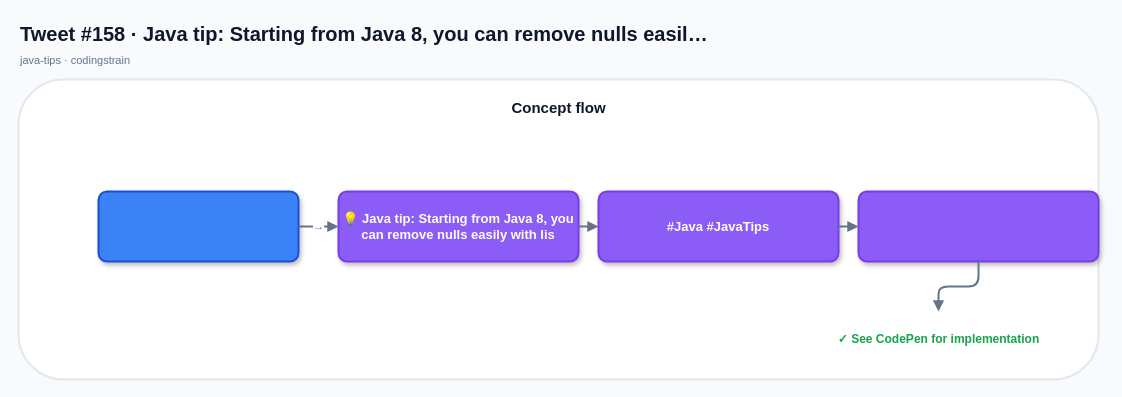
The diagram is 1122 pixels wide and 397 high, and some of its shapes have lost their labels. Here are the shapes that lost their labels. From the top down, the centre of each, then its label:
At pixel 199 227: "Problem / context".
At pixel 979 227: "Runnable sample: `java-tips`".
